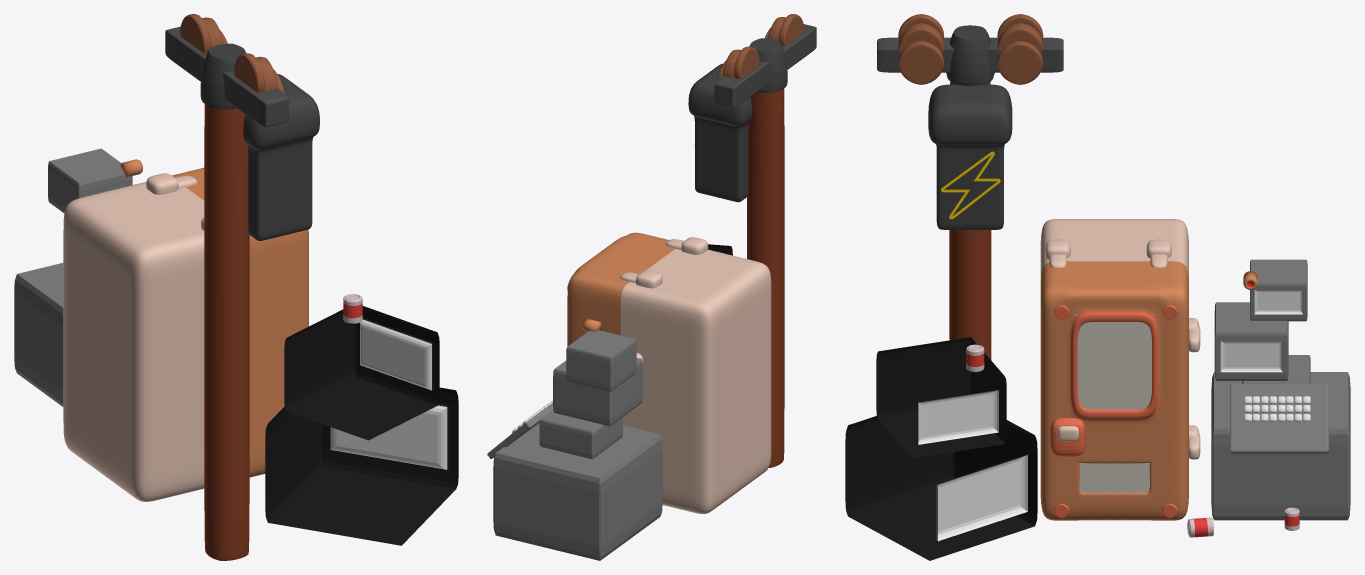
File: MachineMedicine.fbx
3 views of the same model, side by side, from view 1: azimuth 30°, elevation 25°; view 2: azimuth 150°, elevation 25°; view 3: azimuth 270°, elevation 25° (orthographic). The views are drawn at different scales.
Parts seen in each view (by area): view 1: Cube.024, Plane.004, Cylinder.010, Plane.023, Cube.001, Plane.016, Cube, Plane.020, Cylinder.011, Circle.003, Circle.002, Cube.025 (+1 smaller); view 2: Cube.024, Plane.016, Cylinder.010, Cube.001, Plane.020, Plane.018, Plane.019, Cube, Cylinder.011, Plane.017, Circle.002, Circle.003 (+2 smaller); view 3: Cube.024, Plane.004, Plane.023, Plane.016, Cube.001, Plane.021, Plane.017, Plane.018, Cylinder.010, Plane.020, Cylinder.011, Cube (+11 smaller).
Boxes of the visible parts, x1,y1,x2,y2 form: Cube.024: (63, 167, 308, 501); Plane.004: (265, 387, 458, 545); Cylinder.010: (204, 104, 249, 560); Plane.023: (284, 306, 439, 440); Cube.001: (243, 74, 319, 240); Plane.016: (14, 263, 63, 406); Cube: (165, 26, 288, 127); Plane.020: (48, 148, 132, 213); Cylinder.011: (200, 43, 245, 109); Circle.003: (234, 53, 265, 92); Circle.002: (180, 14, 211, 52); Cube.025: (146, 173, 197, 194); Cube.024: (567, 232, 771, 513); Plane.016: (493, 423, 662, 560); Cylinder.010: (747, 88, 784, 467); Cube.001: (688, 63, 751, 202); Plane.020: (566, 330, 636, 391); Plane.018: (553, 358, 642, 426); Plane.019: (539, 410, 622, 459); Cube: (714, 24, 816, 107); Cylinder.011: (749, 38, 787, 93); Plane.017: (487, 403, 553, 458); Circle.002: (733, 46, 759, 78); Circle.003: (778, 14, 804, 46); Cube.024: (1040, 219, 1188, 520); Plane.004: (845, 416, 1037, 560); Plane.023: (876, 337, 1006, 458); Plane.016: (1211, 372, 1350, 520); Cube.001: (928, 84, 1012, 229); Plane.021: (1074, 314, 1154, 409); Plane.017: (1230, 384, 1328, 454); Plane.018: (1214, 302, 1288, 380); Cylinder.010: (949, 81, 991, 359); Plane.020: (1250, 259, 1307, 321); Cylinder.011: (946, 25, 994, 85); Cube: (877, 37, 1063, 72).
Size of the model in its own units: 119 by 227 by 218.
